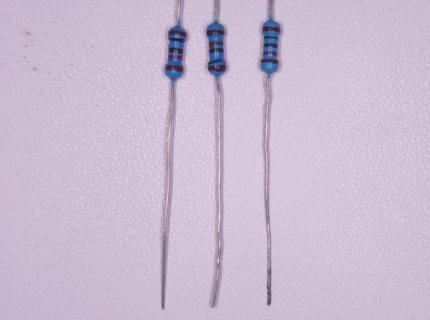Black band: (208, 59, 226, 64), (168, 38, 185, 43), (169, 48, 183, 54), (263, 44, 278, 48), (209, 49, 223, 53), (264, 36, 278, 40)
Brown band: (165, 64, 183, 72), (208, 64, 226, 72), (168, 30, 187, 37), (206, 30, 225, 37), (262, 26, 280, 33), (261, 59, 279, 64)
Red band: (168, 54, 182, 60), (209, 41, 224, 46), (263, 51, 277, 56)
